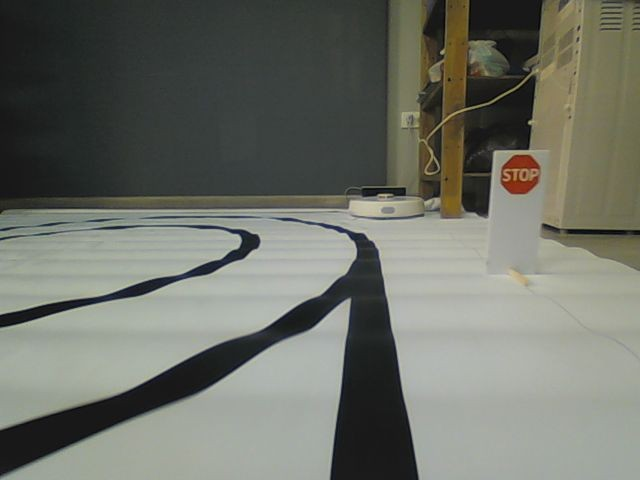Stop: (499, 153, 542, 195)
